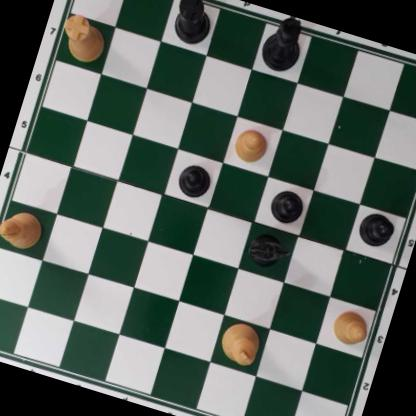black-king: (256, 11, 310, 77)
black-knight: (245, 228, 295, 275)
black-pawn: (354, 208, 397, 251), (172, 160, 215, 202), (267, 184, 308, 227)
black-rook: (166, 0, 220, 49)
white-bishop: (0, 205, 48, 255)
white-king: (216, 319, 266, 370)
white-pawn: (327, 305, 373, 350), (229, 122, 272, 167)
white-rook: (56, 12, 111, 67)
